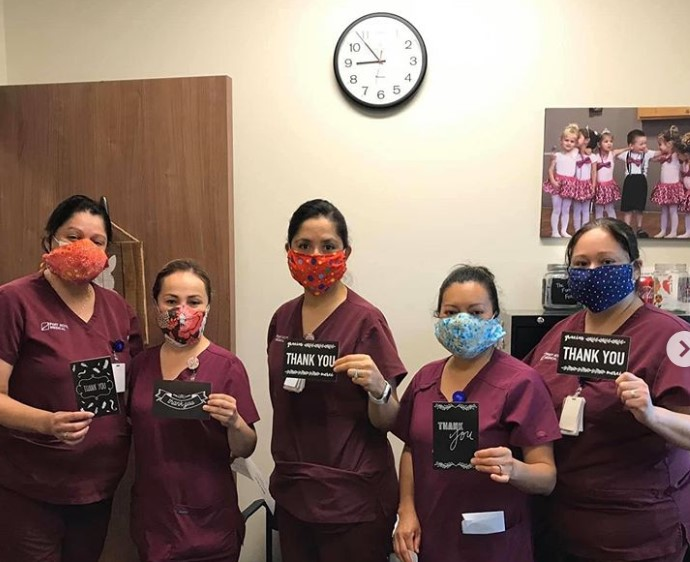face_with_mask: (562, 220, 645, 314), (41, 193, 115, 293), (433, 267, 509, 362), (281, 199, 350, 302), (150, 256, 213, 348)
